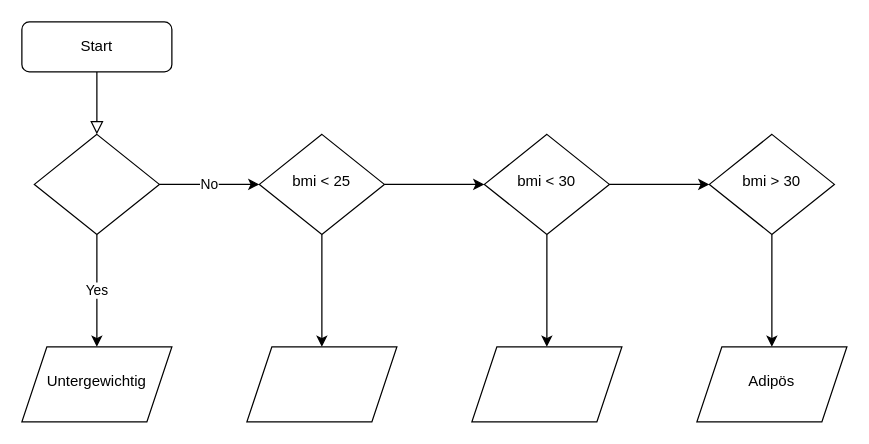
Image size: 869x444. Some labels were removed from this diagram. Here are the shapes that lost their labels. From the top down, the centre of each, then its label:
At point (96, 183): "bmi < 18.5".
At point (321, 384): "Normalgewichtig".
At point (546, 384): "Übergewichtig".
